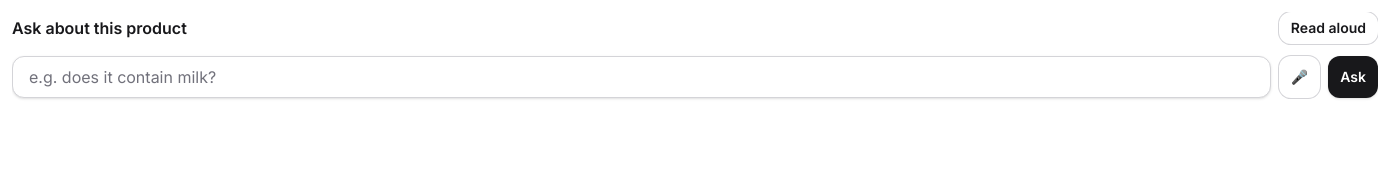
Test: [VOICE-6] typed questions › shows the answer in a live region and speaks it
Type "what's the score?" into the field named "Your question" at (641, 77), box x1=12 y1=56 x2=1271 y2=98
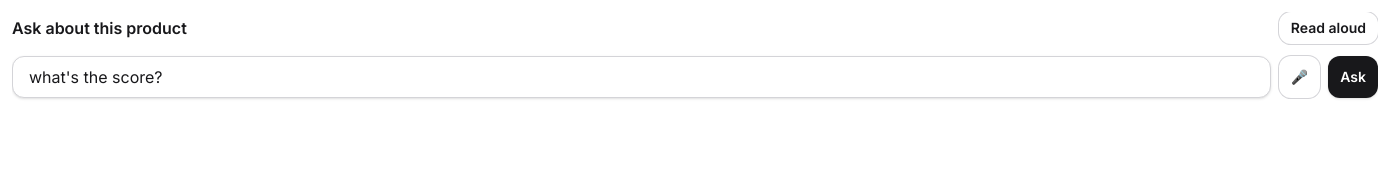
Click the button "Ask" at (1353, 77), box x1=1328 y1=56 x2=1378 y2=98
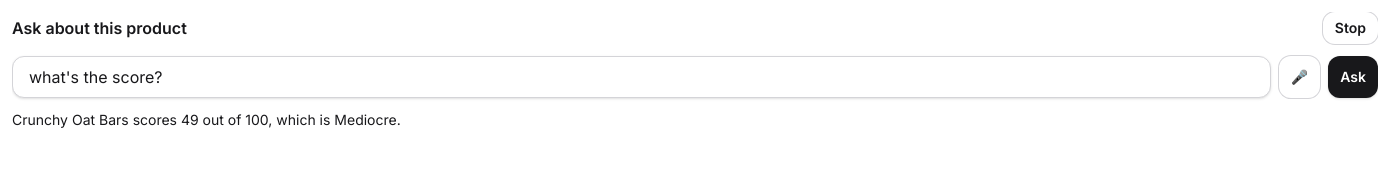
Expected: the text "Crunchy Oat Bars scores 49 out of 100, which is Mediocre." is shown, x1=12 y1=111 x2=401 y2=128
